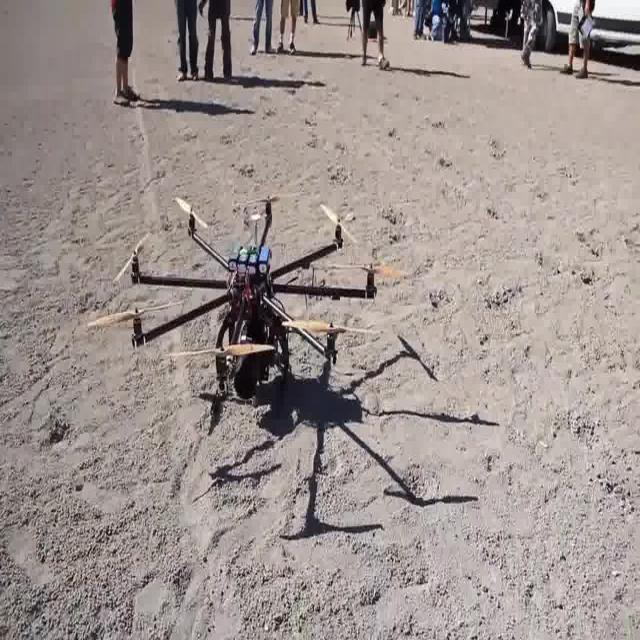drone: (84, 188, 408, 446)
